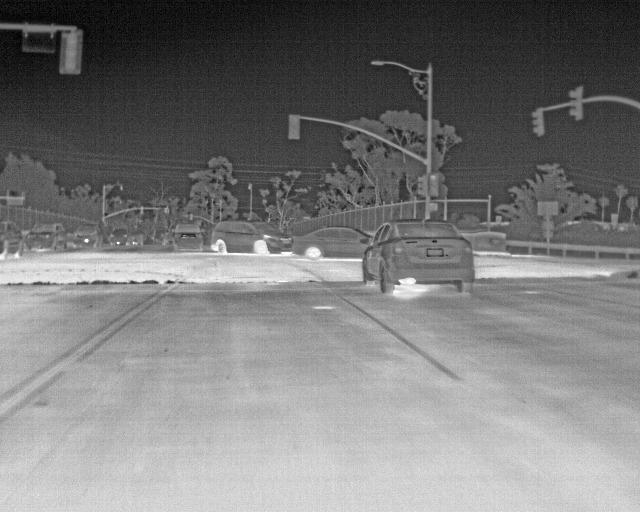car: (359, 218, 474, 293), (211, 221, 294, 255), (291, 226, 372, 260), (26, 223, 66, 251), (0, 221, 23, 259), (172, 224, 204, 251), (72, 224, 103, 247), (110, 229, 132, 245), (132, 234, 143, 246)
light: (65, 34, 77, 70), (568, 91, 578, 116), (532, 112, 540, 133), (430, 174, 437, 196), (290, 117, 297, 139), (417, 177, 424, 194), (429, 203, 437, 211), (140, 206, 144, 214), (190, 213, 193, 220), (165, 208, 168, 213)
sign: (22, 28, 56, 53), (538, 201, 557, 215), (8, 191, 23, 205), (542, 221, 554, 228), (543, 231, 554, 237), (611, 214, 617, 224), (496, 216, 502, 224)
